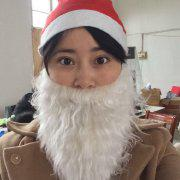WRONG: (47, 42, 123, 118)
